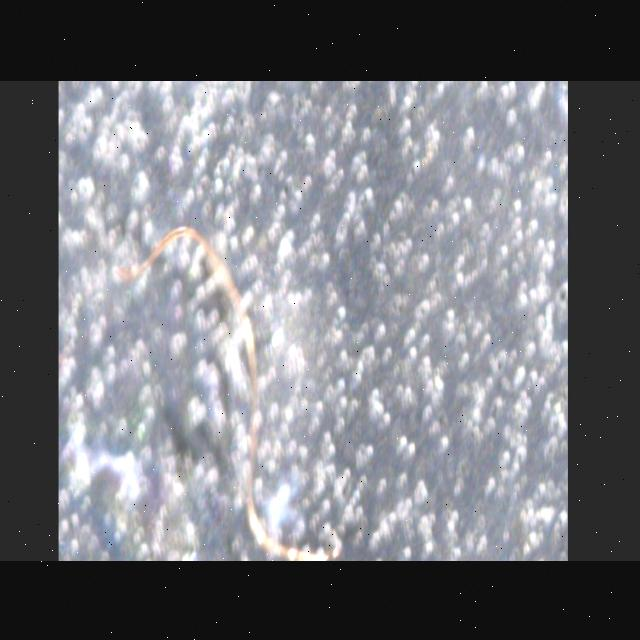Fibre: (112, 222, 342, 560)
